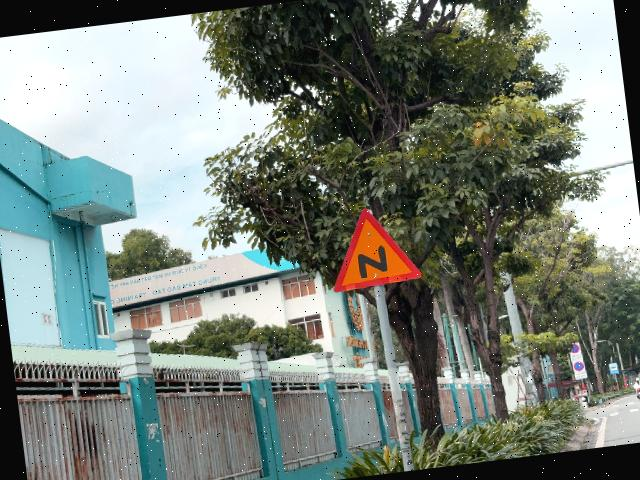nhieu-cho-ngoat-nguy-hiem-lien-tiep: (323, 202, 422, 293)
